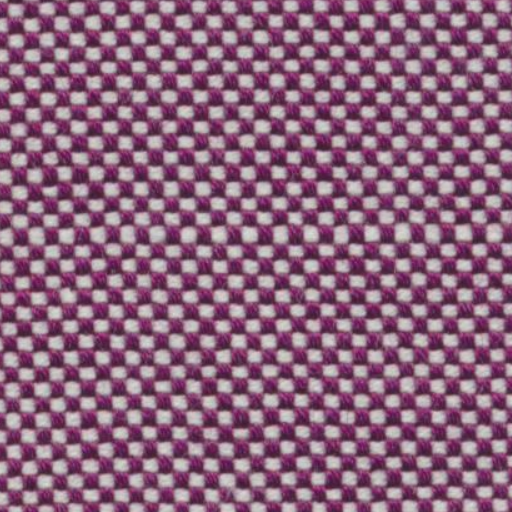TuoSha: (12, 207, 500, 270)
